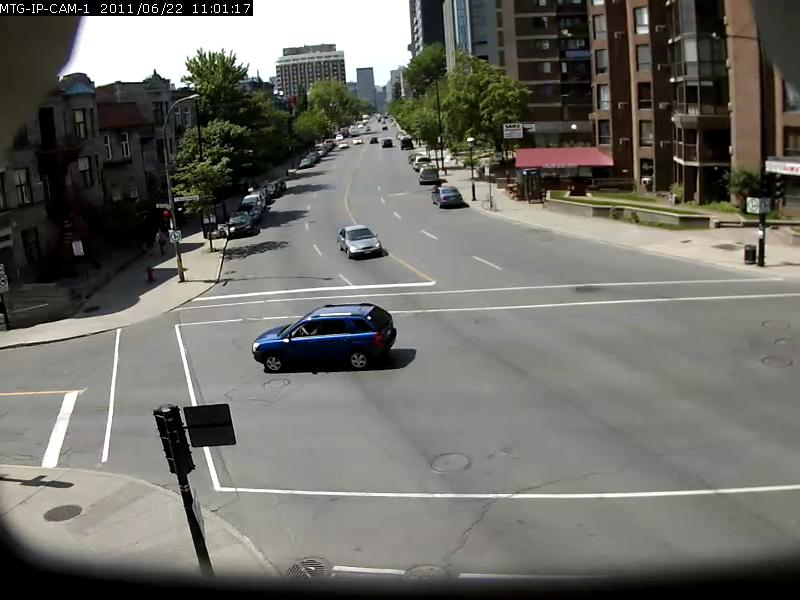Car: (337, 223, 383, 261)
